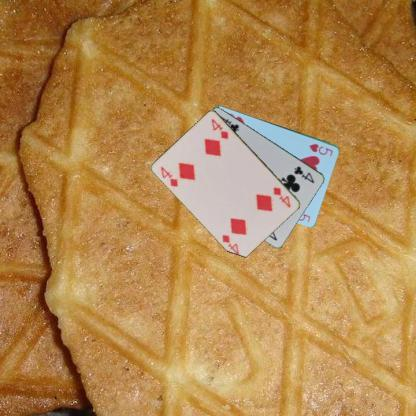4c: (292, 163, 316, 185)
4d: (158, 164, 180, 188), (271, 184, 292, 208)
5h: (306, 141, 334, 157)
